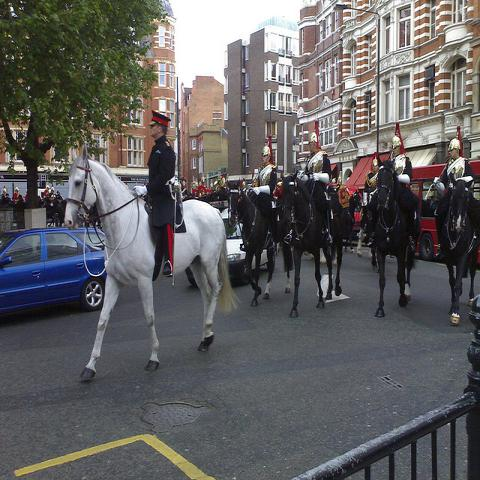bus: (410, 158, 480, 260)
car: (0, 226, 108, 312), (184, 208, 269, 290)
